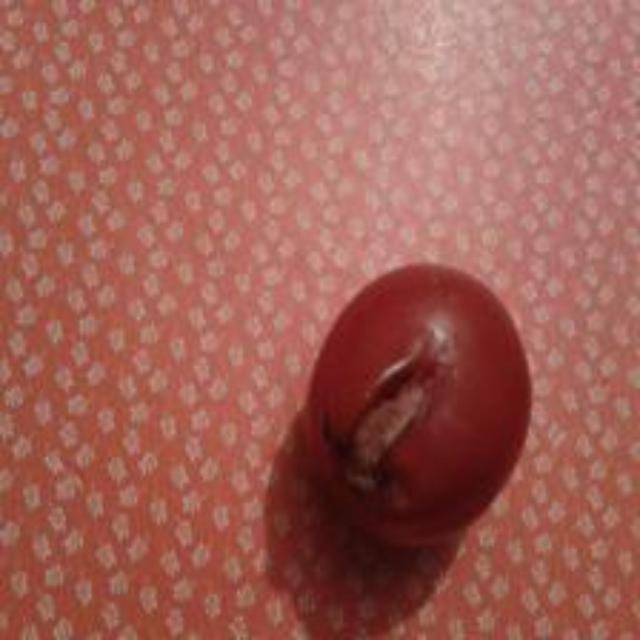defect: (304, 260, 537, 550)
